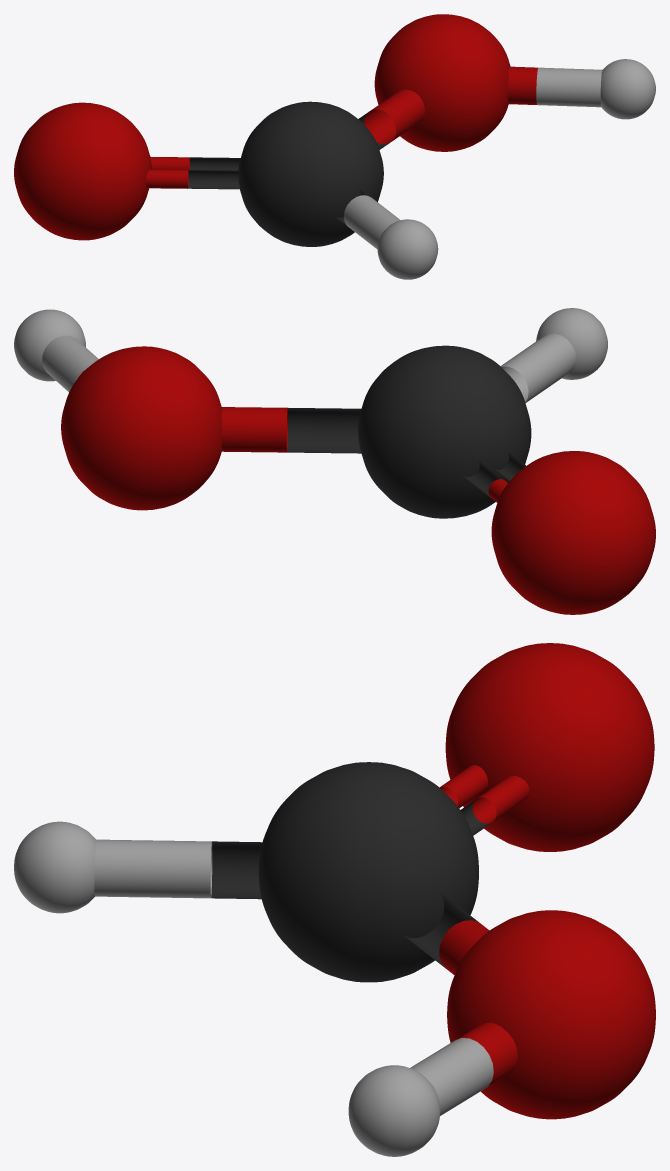
Rendered from Ameisensauere.gltf.
The picture shows the model from 3 angles, top to bottom: view 1: azimuth 30°, elevation 25°; view 2: azimuth 150°, elevation 25°; view 3: azimuth 270°, elevation 25°; orthographic projection. The views are drawn at different scales.
Visible parts, largest first — view 1: Oxygen_Atom, Carbon_Atom, Hydrogen_Atom, Oxygen_sticks, Hydrogen_sticks, Carbon_sticks; view 2: Oxygen_Atom, Carbon_Atom, Hydrogen_Atom, Hydrogen_sticks, Carbon_sticks, Oxygen_sticks; view 3: Oxygen_Atom, Carbon_Atom, Hydrogen_Atom, Hydrogen_sticks, Oxygen_sticks, Carbon_sticks.
Part boxes in pixels (bbox=[...]): Oxygen_Atom: bbox=[14, 14, 510, 240]; Carbon_Atom: bbox=[238, 101, 383, 246]; Hydrogen_Atom: bbox=[377, 59, 655, 279]; Oxygen_sticks: bbox=[146, 66, 537, 188]; Hydrogen_sticks: bbox=[343, 67, 602, 249]; Carbon_sticks: bbox=[188, 111, 389, 225]; Oxygen_Atom: bbox=[61, 346, 655, 614]; Carbon_Atom: bbox=[358, 345, 531, 518]; Hydrogen_Atom: bbox=[14, 308, 607, 381]; Hydrogen_sticks: bbox=[42, 333, 576, 402]; Carbon_sticks: bbox=[287, 408, 525, 497]; Oxygen_sticks: bbox=[78, 370, 507, 502]; Oxygen_Atom: bbox=[445, 643, 655, 1119]; Carbon_Atom: bbox=[258, 762, 478, 982]; Hydrogen_Atom: bbox=[14, 821, 440, 1156]; Hydrogen_sticks: bbox=[94, 839, 493, 1115]; Oxygen_sticks: bbox=[439, 765, 529, 1086]; Carbon_sticks: bbox=[211, 799, 491, 968].
Size of the model in its own units: 3.53 by 0.77 by 2.24.
